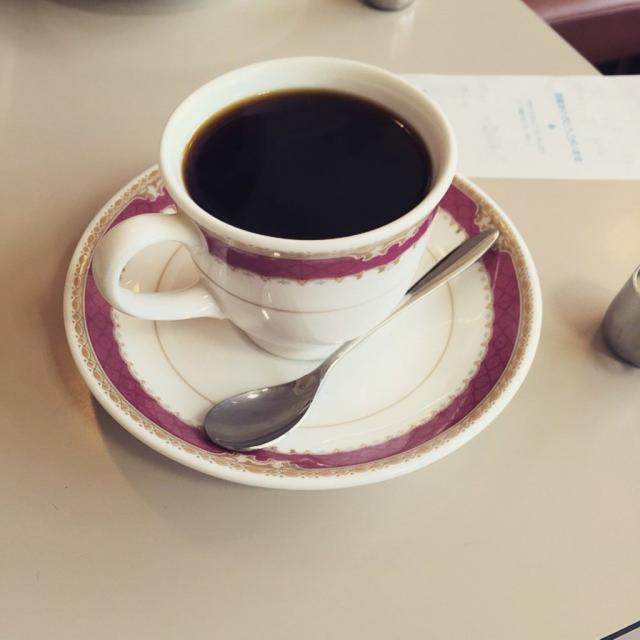Coffee: (113, 56, 474, 396)
Tea: (182, 89, 433, 240)
